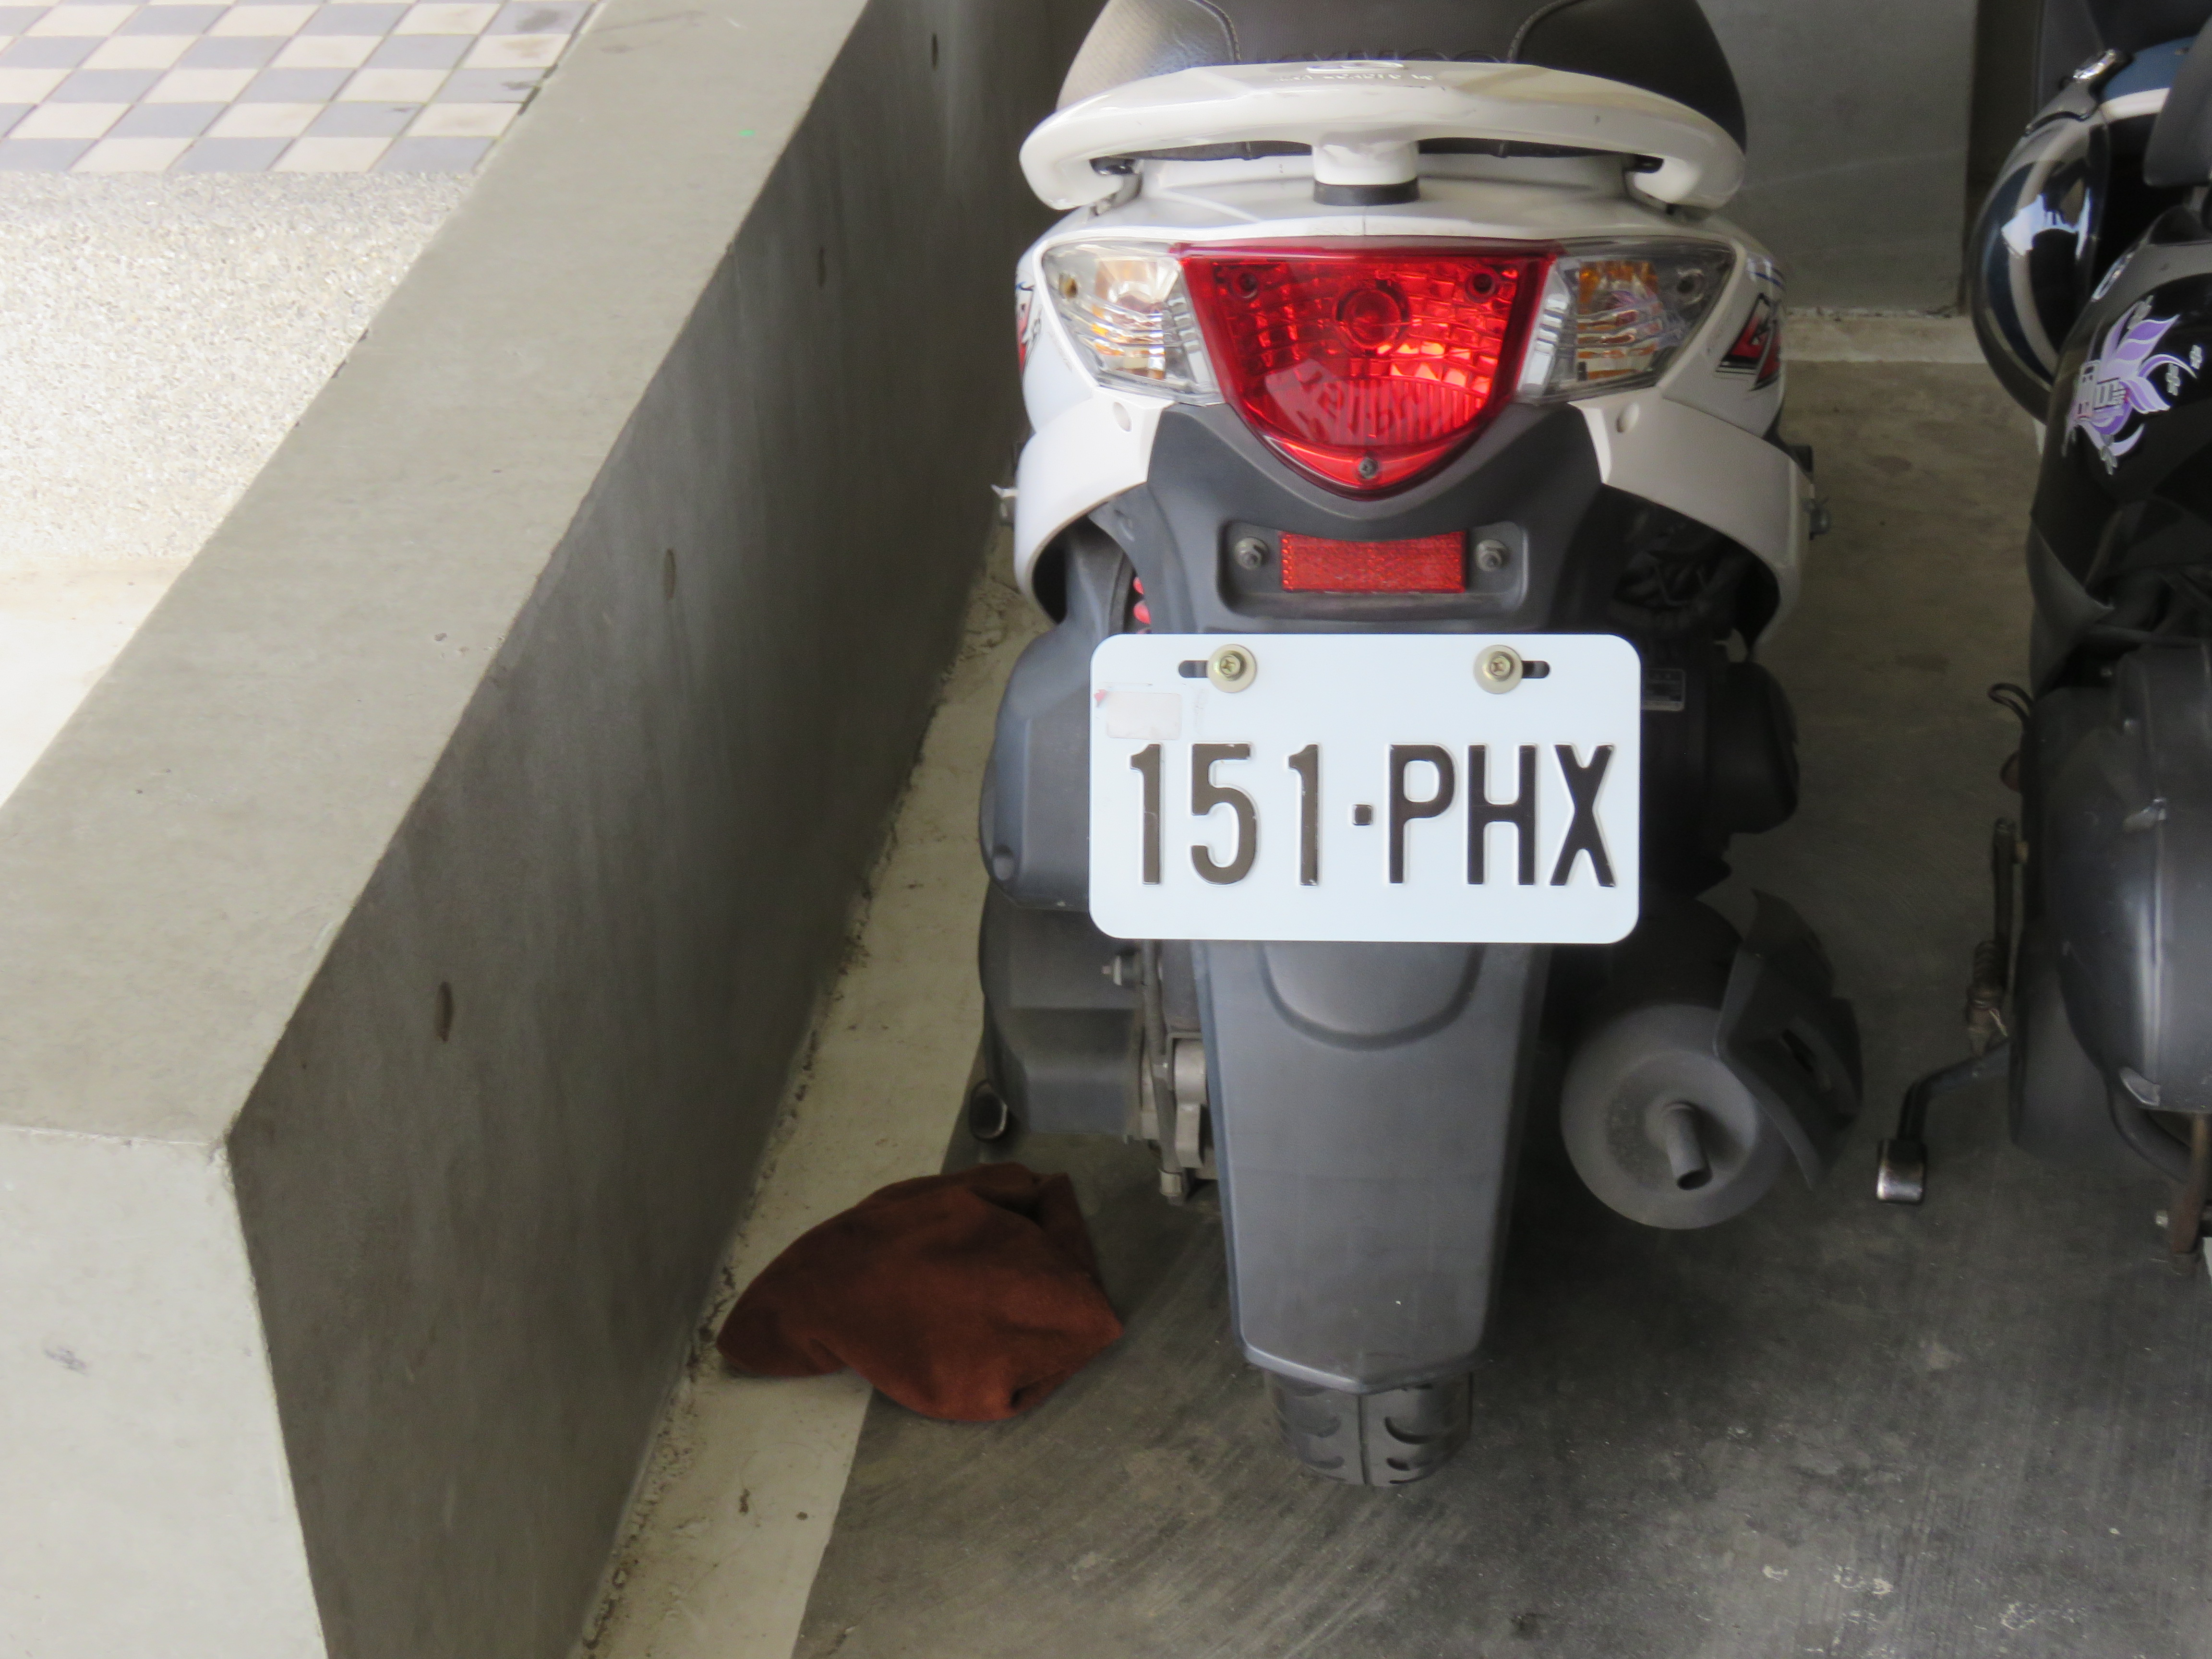car_card: (850, 742, 1444, 1032)
moto: (738, 0, 1568, 1570)
